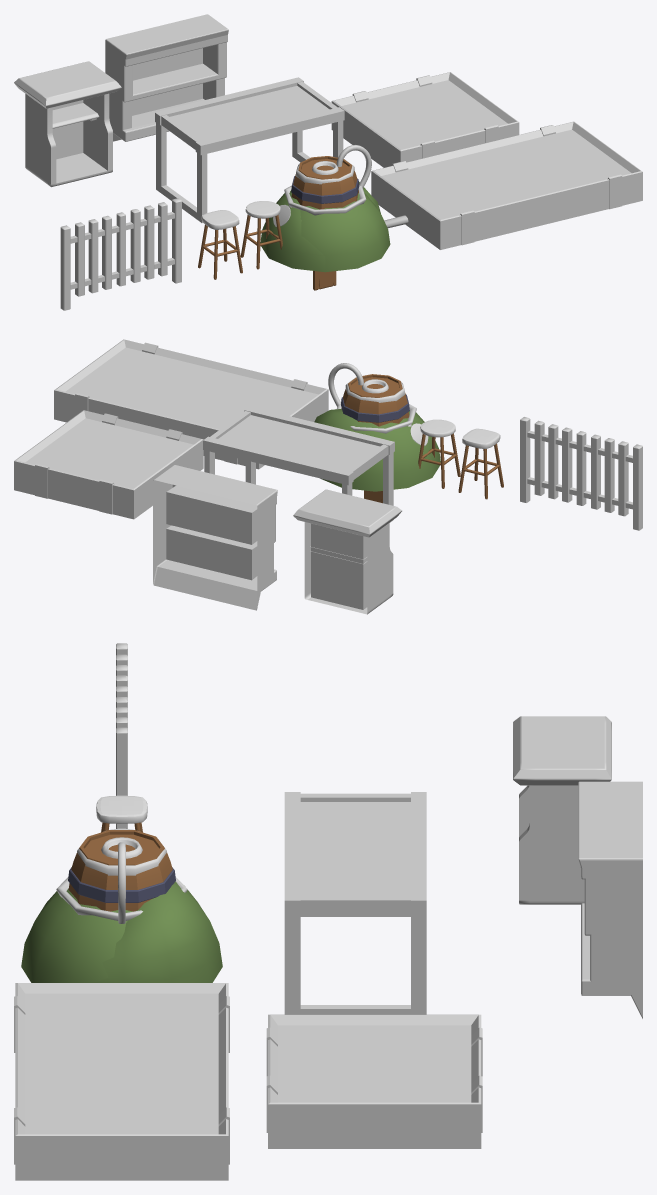
The model's file is WoodenStake.fbx.
3 renders of one model, top to bottom at view 1: azimuth 30°, elevation 25°; view 2: azimuth 150°, elevation 25°; view 3: azimuth 270°, elevation 25°, orthographic. The views are drawn at different scales.
Visible parts, largest first — view 1: Wooden_Garden_Box_00, Wooden_Garden_Box_01, Upper_Cabinet_01, Wooden_Table, Upper_Cabinet_00, Fence, Bush_00, Barril, Bush_01, Square_Wooden_Bench, Circular_Wooden_Bench, Vase_00 (+1 smaller); view 2: Wooden_Garden_Box_00, Upper_Cabinet_01, Wooden_Garden_Box_01, Upper_Cabinet_00, Wooden_Table, Fence, Bush_01, Barril, Square_Wooden_Bench, Circular_Wooden_Bench, Vase_00, Garden_Vase_02; view 3: Wooden_Garden_Box_00, Wooden_Garden_Box_01, Wooden_Table, Upper_Cabinet_00, Upper_Cabinet_01, Bush_01, Bush_00, Barril, Fence, Square_Wooden_Bench, Vase_00, Garden_Vase_02 (+1 smaller).
Boxes of the visible parts, bbox=[...] form: Wooden_Garden_Box_00: bbox=[371, 121, 642, 249]; Wooden_Garden_Box_01: bbox=[331, 72, 519, 167]; Upper_Cabinet_01: bbox=[105, 14, 228, 141]; Wooden_Table: bbox=[155, 77, 344, 222]; Upper_Cabinet_00: bbox=[14, 61, 121, 187]; Fence: bbox=[60, 198, 181, 310]; Bush_00: bbox=[287, 193, 390, 272]; Barril: bbox=[291, 156, 359, 209]; Bush_01: bbox=[260, 182, 380, 271]; Square_Wooden_Bench: bbox=[198, 210, 242, 279]; Circular_Wooden_Bench: bbox=[240, 201, 282, 269]; Vase_00: bbox=[312, 145, 371, 187]; Wooden_Garden_Box_00: bbox=[54, 339, 328, 469]; Upper_Cabinet_01: bbox=[153, 465, 277, 610]; Wooden_Garden_Box_01: bbox=[14, 410, 203, 519]; Upper_Cabinet_00: bbox=[293, 489, 401, 614]; Wooden_Table: bbox=[203, 406, 394, 522]; Fence: bbox=[520, 417, 642, 530]; Bush_01: bbox=[314, 409, 440, 491]; Barril: bbox=[341, 374, 409, 426]; Square_Wooden_Bench: bbox=[458, 428, 503, 499]; Circular_Wooden_Bench: bbox=[418, 419, 460, 488]; Vase_00: bbox=[328, 363, 388, 406]; Garden_Vase_02: bbox=[337, 404, 416, 433]; Wooden_Garden_Box_00: bbox=[14, 983, 229, 1180]; Wooden_Garden_Box_01: bbox=[266, 1014, 482, 1148]; Wooden_Table: bbox=[284, 792, 426, 1014]; Upper_Cabinet_00: bbox=[513, 716, 611, 904]; Upper_Cabinet_01: bbox=[578, 781, 642, 1018]; Bush_01: bbox=[90, 881, 222, 982]; Bush_00: bbox=[21, 888, 132, 982]; Barril: bbox=[68, 830, 175, 911]; Fence: bbox=[116, 643, 127, 828]; Square_Wooden_Bench: bbox=[96, 795, 147, 832]; Vase_00: bbox=[101, 837, 142, 923]; Garden_Vase_02: bbox=[56, 877, 187, 920].
Size of the model in its own units: 736 by 177 by 474.
